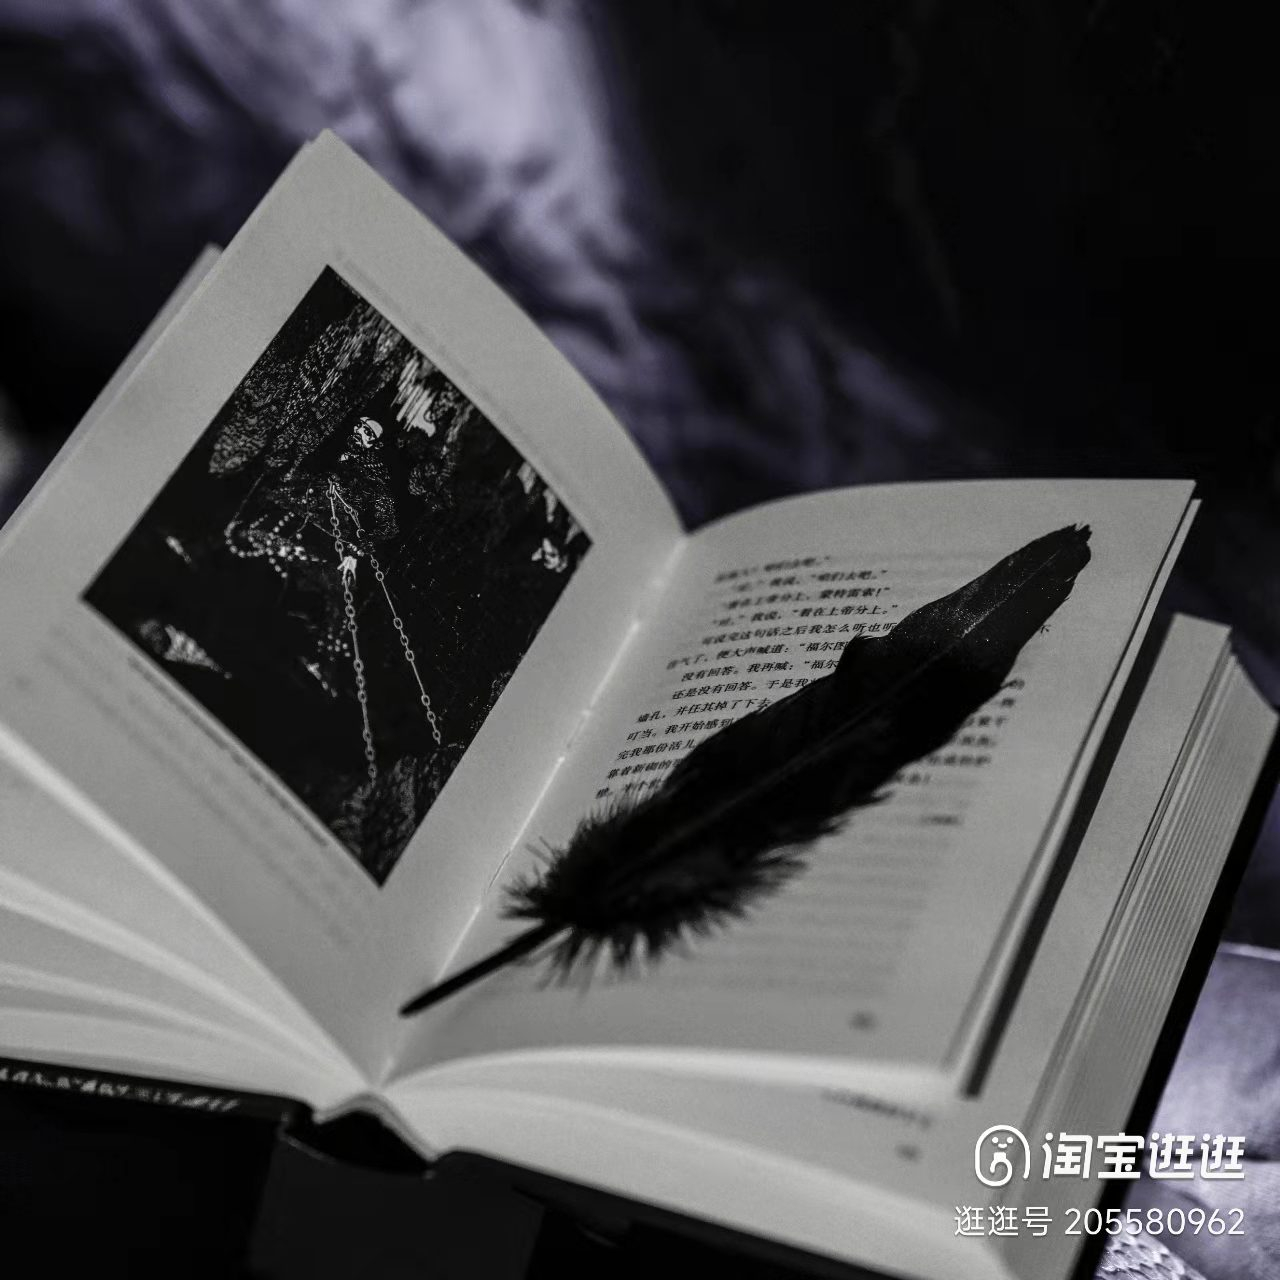book: (5, 129, 1280, 1268)
